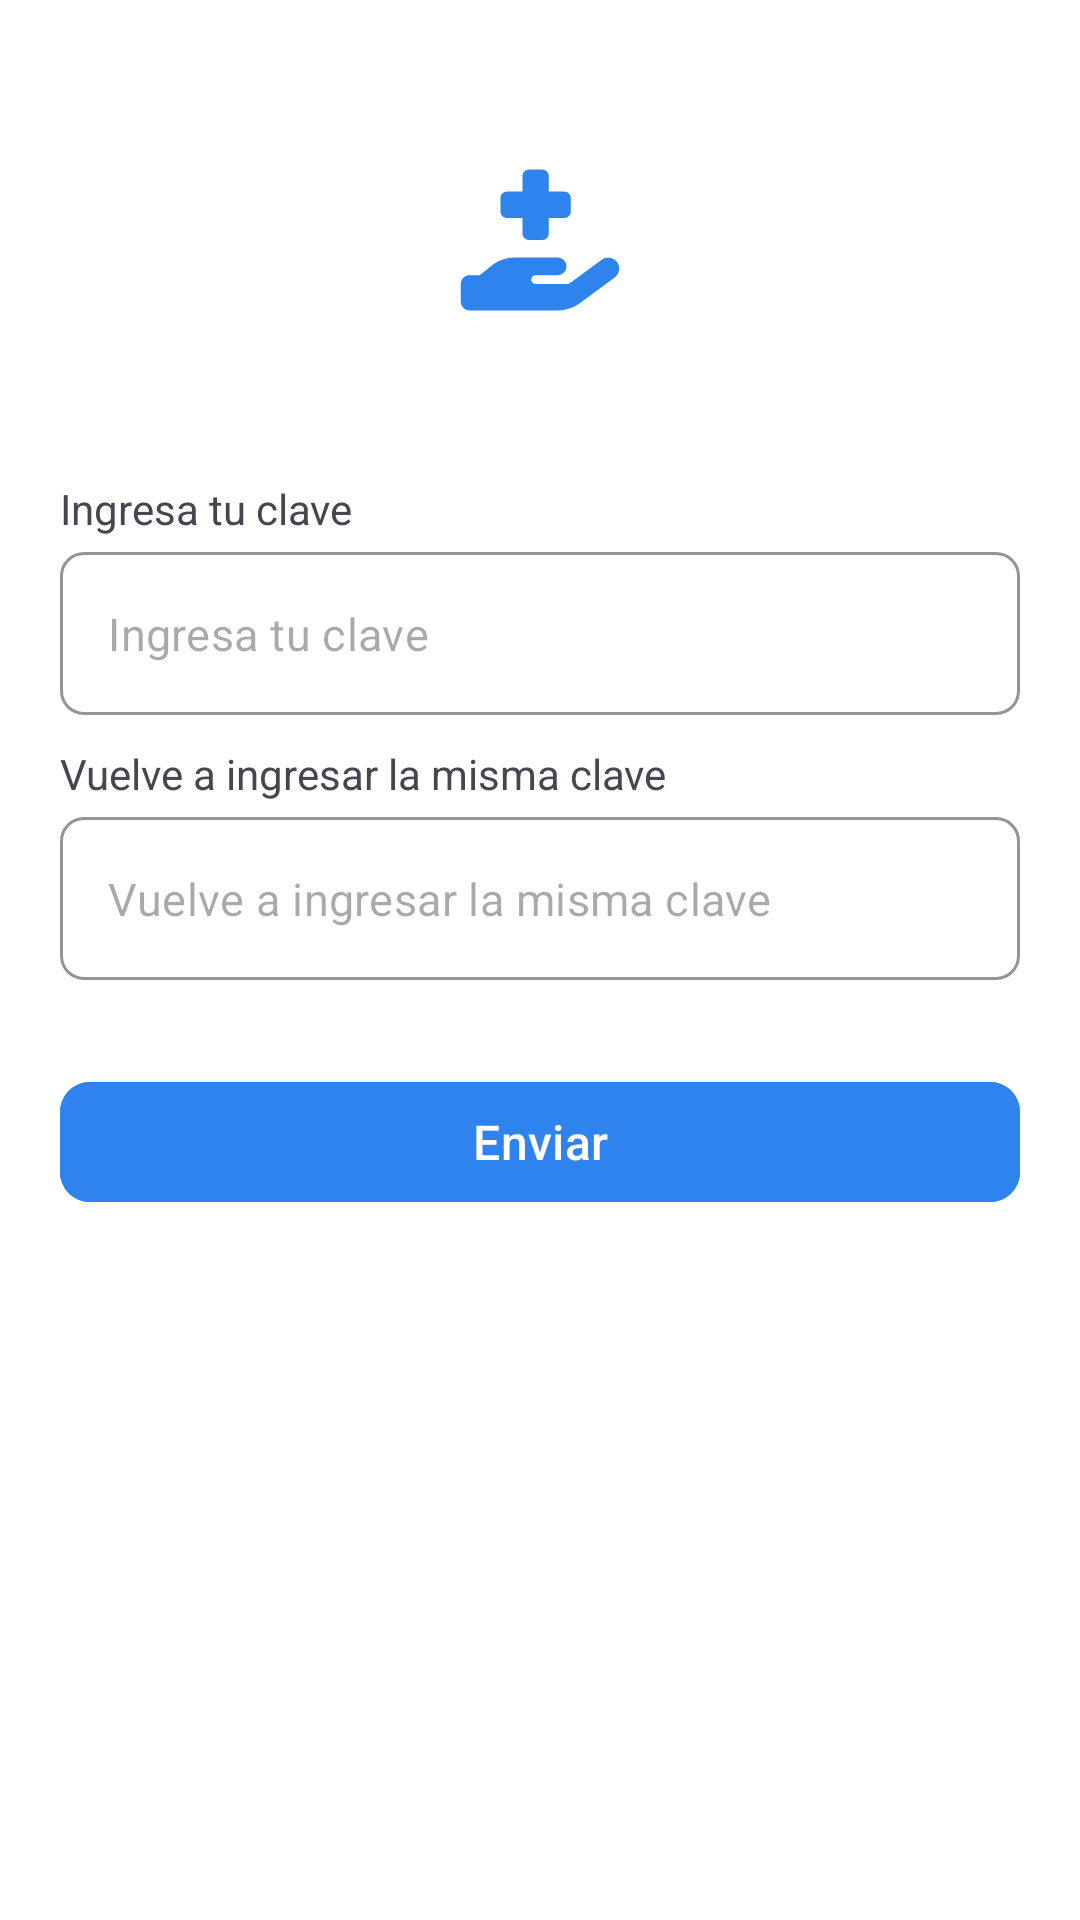

Point at icon controls on the screen. Image size 1080w x 1920h, points as (x=x, y=y).
Icono Viva Salud: (x=540, y=240)
